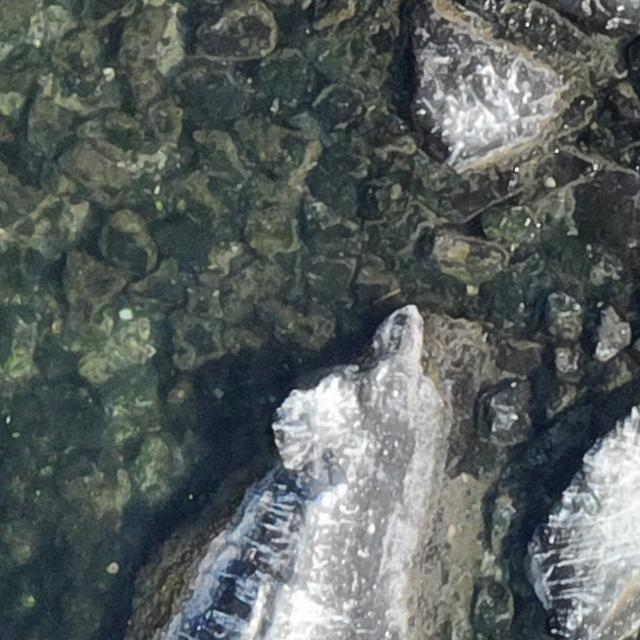umineko: (330, 458, 351, 499)
